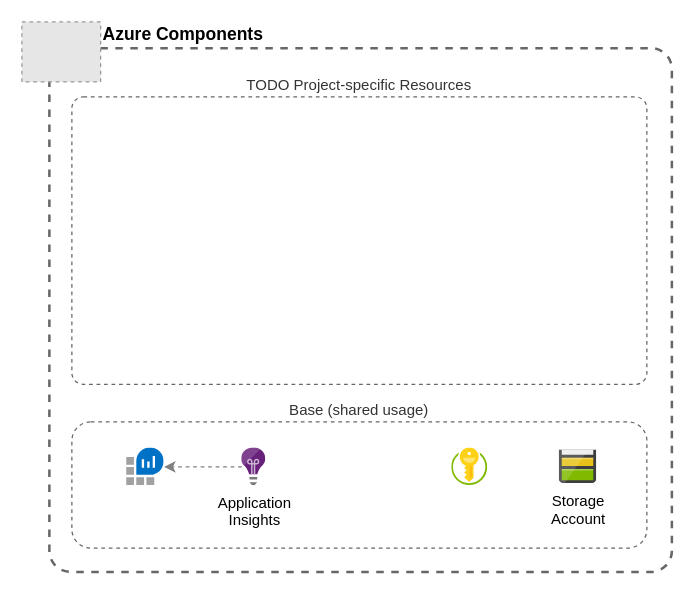
This 695x595 diagram has some shape labels left out. Grey dashed boxes stand in for pictures. The box of each missing label's shape, as (x1, y1, x2, y2) in pixels:
Key Vault: (451, 448, 487, 485)
Log Analytics Workspace: (126, 448, 164, 485)
